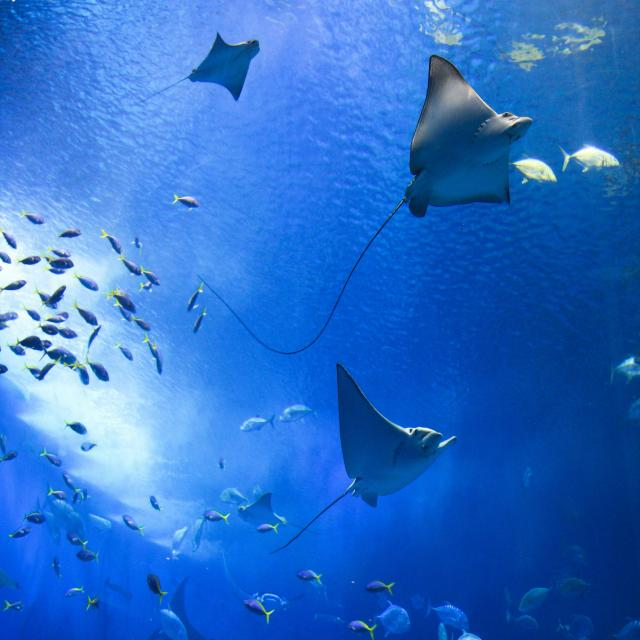stingray: (210, 55, 532, 354), (279, 363, 456, 549), (165, 33, 260, 101), (237, 492, 282, 524)
